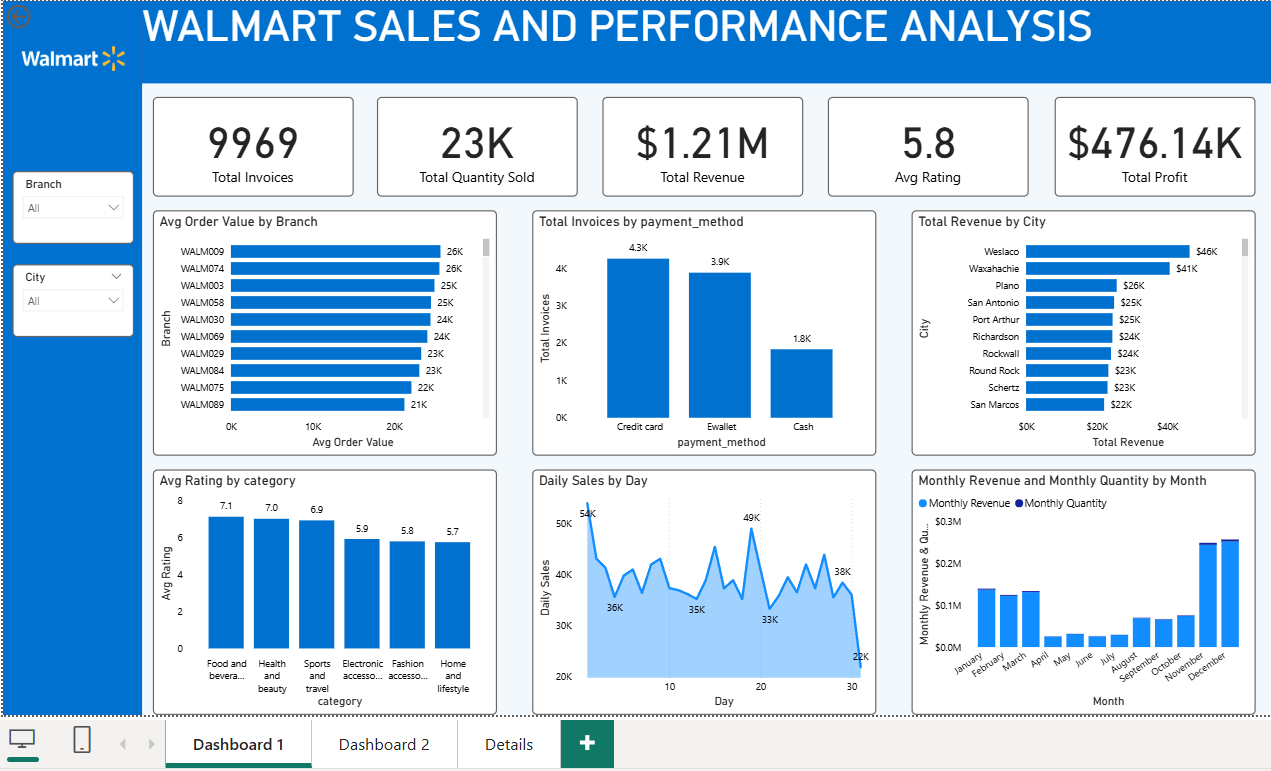

The dashboard page shown, as its layout file describes it:
{"tool":"powerbi","page":{"name":"Dashboard 1","canvas":[1600,900],"ordinal":0},"visuals":[{"type":"shape","box":[0,0,175.4,900.7],"z":0},{"type":"shape","box":[175.4,0,1425.1,103.9],"z":1000},{"type":"card","fields":{"Values":["cleaned walmart data.Total Invoices"]},"box":[189,120.9,253.7,126],"z":2000},{"type":"card","fields":{"Values":["cleaned walmart data.Total Quantity Sold"]},"box":[471.6,120.9,253.7,126],"z":3000},{"type":"card","fields":{"Values":["cleaned walmart data.Total Revenue"]},"box":[756,120.9,253.7,126],"z":4000},{"type":"card","fields":{"Values":["cleaned walmart data.Avg Rating"]},"box":[1040.3,120.9,253.7,126],"z":5000},{"type":"card","fields":{"Values":["cleaned walmart data.Total Profit"]},"box":[1326.4,120.9,253.7,126],"z":6000},{"type":"clusteredBarChart","fields":{"Category":["cleaned walmart data.Branch"],"Y":["cleaned walmart data.Avg Order Value"]},"box":[189,263.9,434.2,309.9],"z":7000},{"type":"clusteredColumnChart","fields":{"Category":["cleaned walmart data.payment_method"],"Y":["cleaned walmart data.Total Invoices"]},"box":[667.5,263.9,434.2,309.9],"z":8000},{"type":"clusteredBarChart","fields":{"Category":["cleaned walmart data.City"],"Y":["cleaned walmart data.Total Revenue"]},"box":[1145.9,263.9,434.2,309.9],"z":9000},{"type":"clusteredColumnChart","fields":{"Category":["cleaned walmart data.category"],"Y":["cleaned walmart data.Avg Rating"]},"box":[189,590.8,434.2,309.9],"z":10000},{"type":"lineChart","fields":{"Y":["cleaned walmart data.Daily Sales"],"Category":["cleaned walmart data.date.Variation.Date Hierarchy.Day"]},"box":[667.5,590.8,434.2,309.9],"z":11000},{"type":"columnChart","fields":{"Category":["cleaned walmart data.date.Variation.Date Hierarchy.Month"],"Y":["cleaned walmart data.Monthly Revenue","cleaned walmart data.Monthly Quantity"]},"box":[1145.9,590.8,434.2,309.9],"z":12000},{"type":"actionButton","box":[0,0,100,40],"z":13000},{"type":"slicer","fields":{"Values":["cleaned walmart data.Branch"]},"box":[11.9,214.8,153.2,91.9],"z":14000},{"type":"slicer","fields":{"Values":["cleaned walmart data.City"]},"box":[11.9,332.6,153.2,91.9],"z":15000},{"type":"image","box":[1.7,0,175.4,144.7],"z":16000}]}

Visuals, with their boxes on the page's 1600x900 design canvas (x1, y1, x2, y2). These are canvas units, not pixel positions in the 1271x771 screenshot, which may show the page scaled, cropped or inside an application window:
shape: box(0, 0, 175, 901)
shape: box(175, 0, 1600, 104)
card - cleaned walmart data.Total Invoices: box(189, 121, 443, 247)
card - cleaned walmart data.Total Quantity Sold: box(472, 121, 725, 247)
card - cleaned walmart data.Total Revenue: box(756, 121, 1010, 247)
card - cleaned walmart data.Avg Rating: box(1040, 121, 1294, 247)
card - cleaned walmart data.Total Profit: box(1326, 121, 1580, 247)
clusteredBarChart - cleaned walmart data.Branch x cleaned walmart data.Avg Order Value: box(189, 264, 623, 574)
clusteredColumnChart - cleaned walmart data.payment_method x cleaned walmart data.Total Invoices: box(668, 264, 1102, 574)
clusteredBarChart - cleaned walmart data.City x cleaned walmart data.Total Revenue: box(1146, 264, 1580, 574)
clusteredColumnChart - cleaned walmart data.category x cleaned walmart data.Avg Rating: box(189, 591, 623, 901)
lineChart - cleaned walmart data.Daily Sales x cleaned walmart data.date.Variation.Date Hierarchy.Day: box(668, 591, 1102, 901)
columnChart - cleaned walmart data.date.Variation.Date Hierarchy.Month x cleaned walmart data.Monthly Revenue: box(1146, 591, 1580, 901)
actionButton: box(0, 0, 100, 40)
slicer - cleaned walmart data.Branch: box(12, 215, 165, 307)
slicer - cleaned walmart data.City: box(12, 333, 165, 424)
image: box(2, 0, 177, 145)
